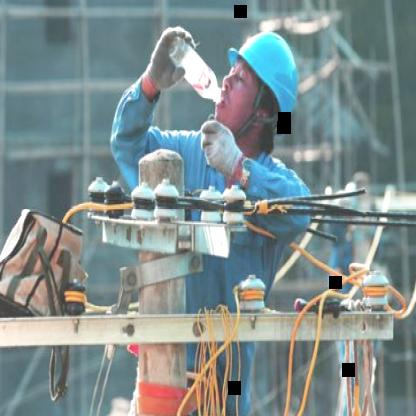helmet: (209, 21, 306, 156)
